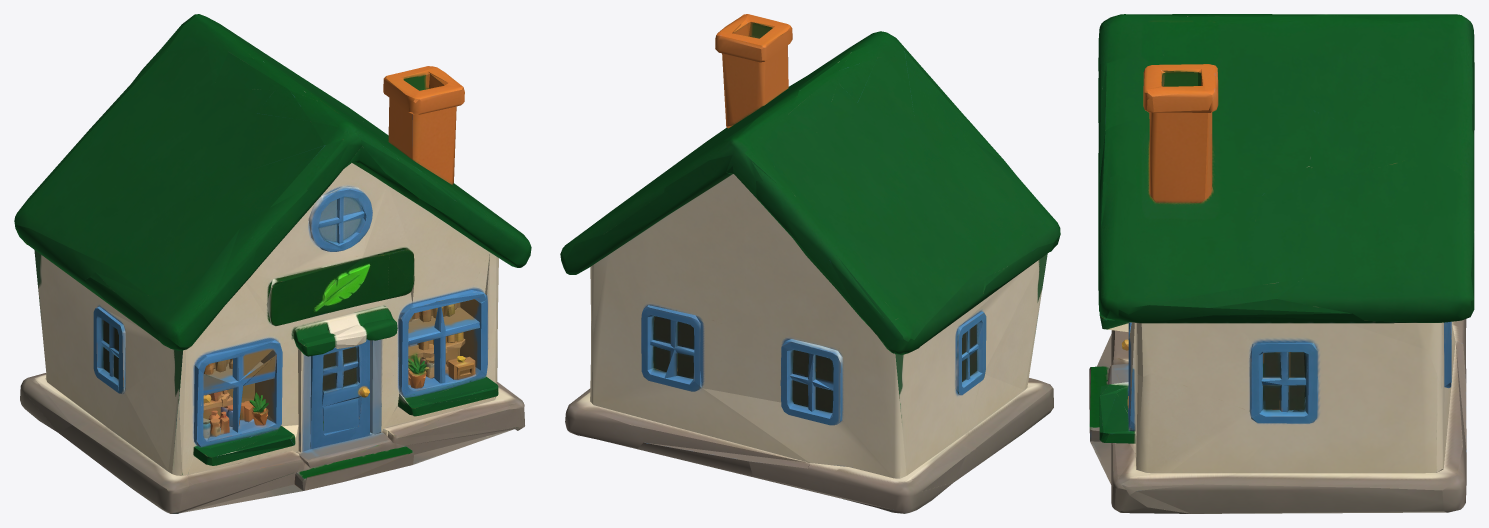
File: shop.glb
3 views of the same model, side by side, from view 1: azimuth 30°, elevation 25°; view 2: azimuth 150°, elevation 25°; view 3: azimuth 270°, elevation 25° (orthographic). The views are drawn at different scales.
Size of the model in its own units: 1.9 by 1.73 by 1.51.
1 material, 1 textured.
